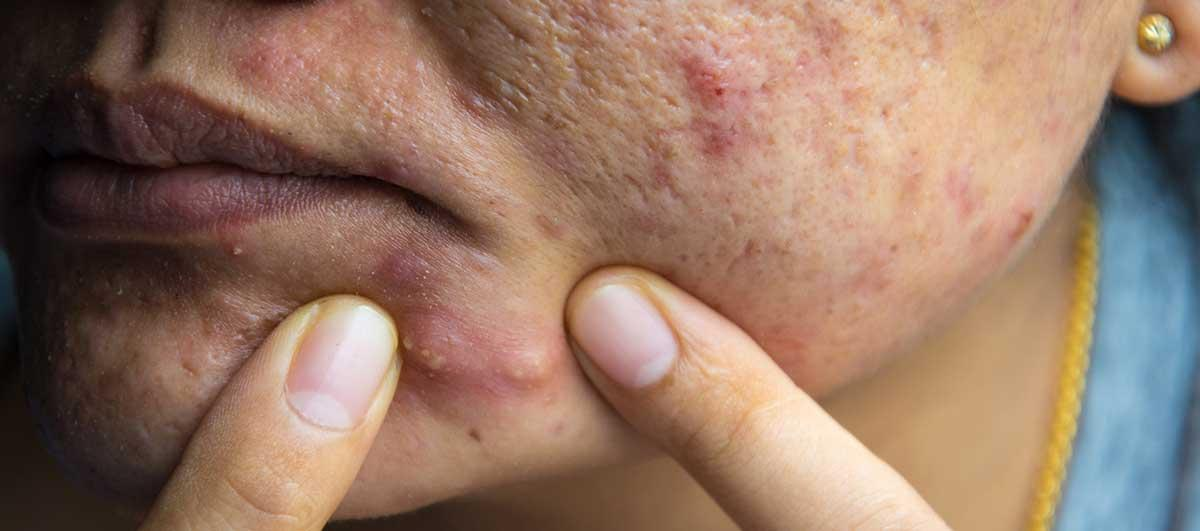Acne: (657, 59, 752, 189), (497, 296, 579, 440), (382, 259, 466, 348), (964, 181, 1041, 253)
